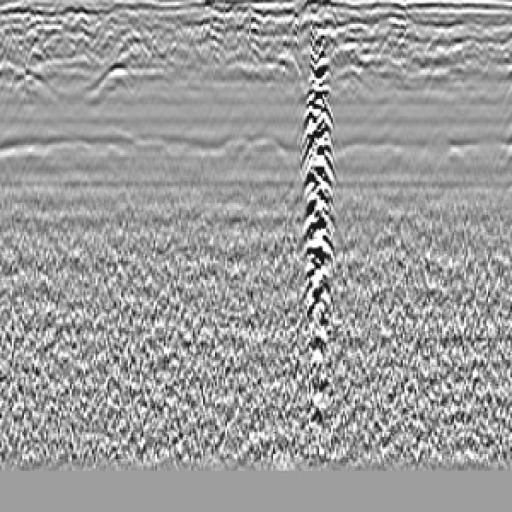metalic: (276, 18, 369, 411)
